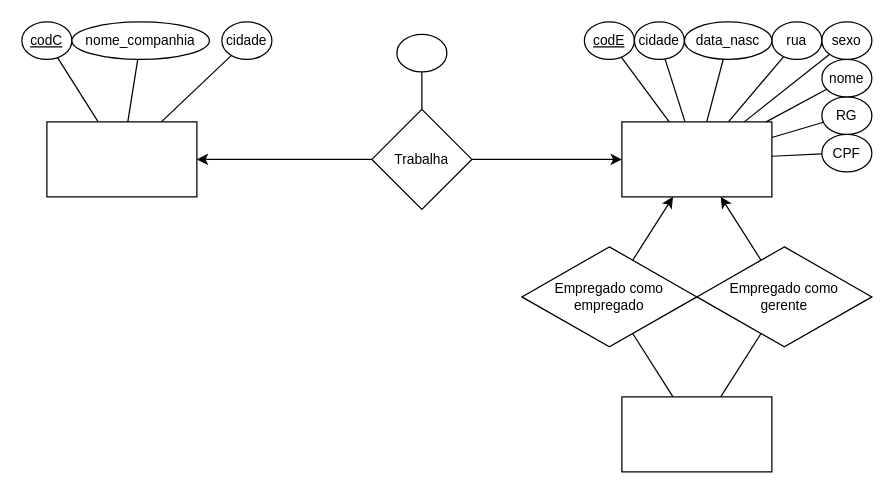
This 894x494 diagram has some shape labels left out. The shapes that lost their labels are listed below. From the top down, each one's box as (x1, y1, x2, y2) in pixels, then its label:
(396, 33, 447, 72): salario
(46, 121, 197, 197): Companhia
(621, 121, 772, 197): Empregado
(621, 396, 772, 472): Gerente
